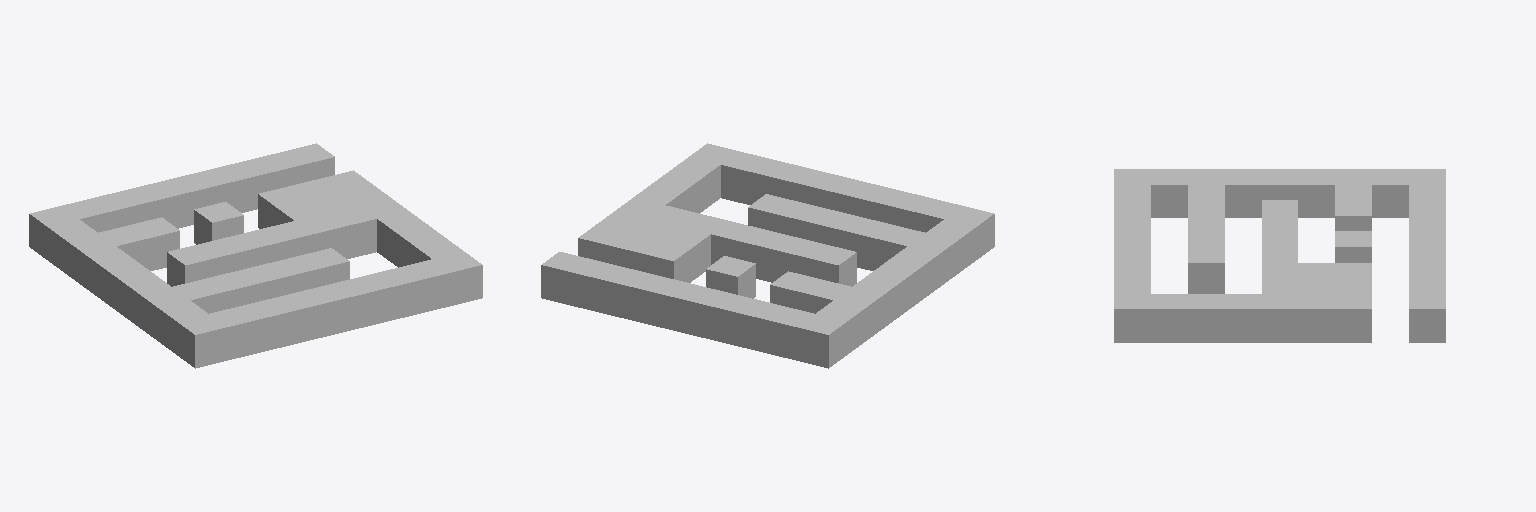
Rendered from map3.obj.
3 renders of one model, left to right at view 1: azimuth 30°, elevation 25°; view 2: azimuth 150°, elevation 25°; view 3: azimuth 270°, elevation 25°, orthographic.
Parts seen in each view (by area): view 1: mergedBlocks; view 2: mergedBlocks; view 3: mergedBlocks.
Part boxes in pixels (x1,y1,x2,y2): mergedBlocks: (29, 143, 482, 368); mergedBlocks: (541, 143, 994, 368); mergedBlocks: (1114, 169, 1445, 342).
Size of the model in its own units: 9 by 1 by 9.